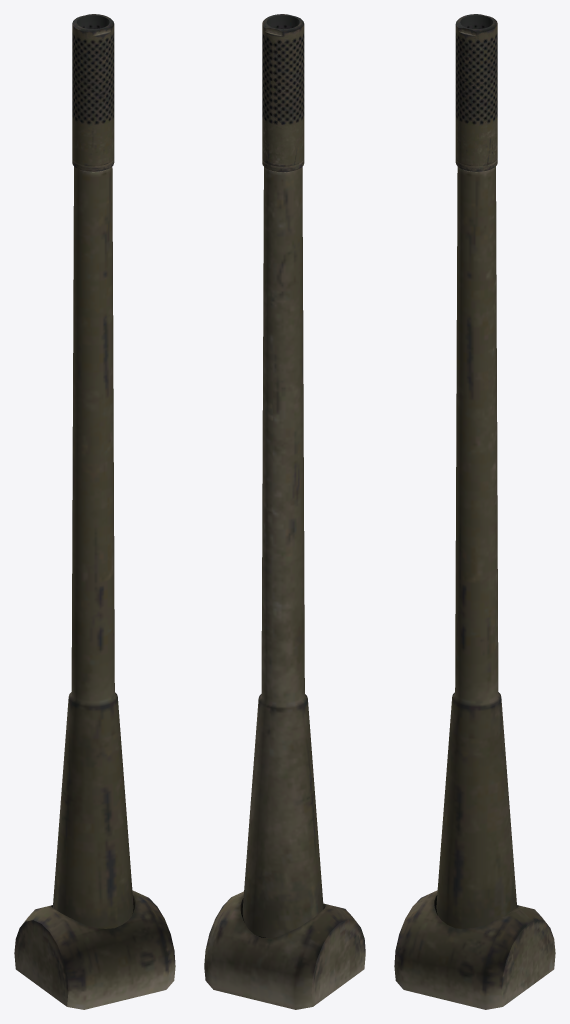
The model's file is Gun_04.glb.
The picture shows the model from 3 angles, left to right: view 1: azimuth 30°, elevation 25°; view 2: azimuth 150°, elevation 25°; view 3: azimuth 330°, elevation 25°; orthographic projection.
Parts seen in each view (by area): view 1: set_0_group_0; view 2: set_0_group_0; view 3: set_0_group_0.
Part boxes in pixels (x1=…): set_0_group_0: x1=14, y1=14, x2=175, y2=1009; set_0_group_0: x1=204, y1=14, x2=365, y2=1009; set_0_group_0: x1=394, y1=14, x2=555, y2=1009.
Size of the model in its own units: 0.3954 by 3.42 by 0.4067.
1 material, 1 textured.
